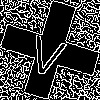V: (25, 25, 71, 79)
